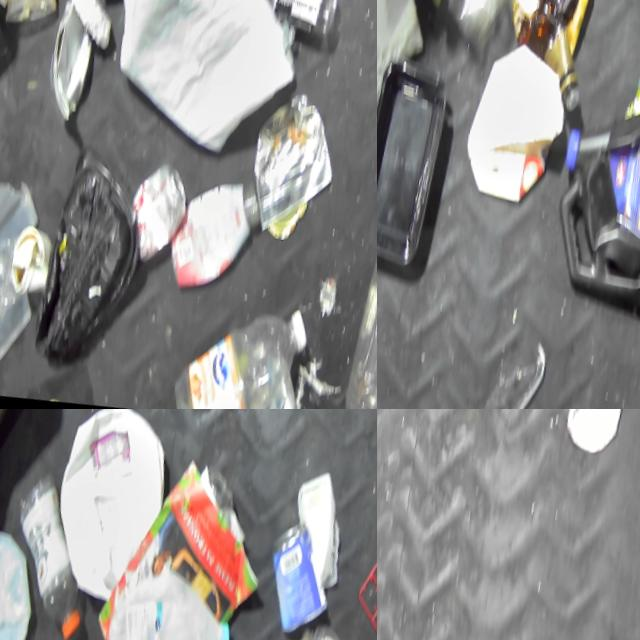can: (248, 517, 335, 640), (121, 164, 185, 262)
milk_jug: (31, 409, 179, 612), (451, 38, 575, 214), (78, 559, 240, 640), (0, 522, 44, 640)
non_white_jug: (537, 108, 640, 320)
plastic_bottle: (154, 287, 307, 409), (0, 464, 99, 640), (322, 256, 377, 409), (229, 0, 338, 34)
